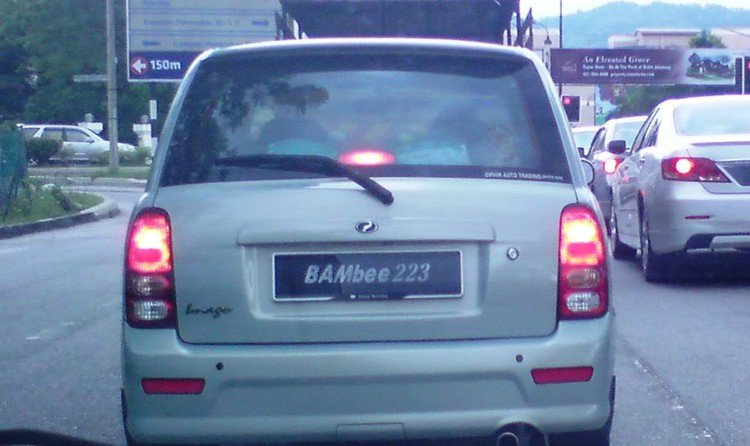license plate: (265, 250, 471, 304)
